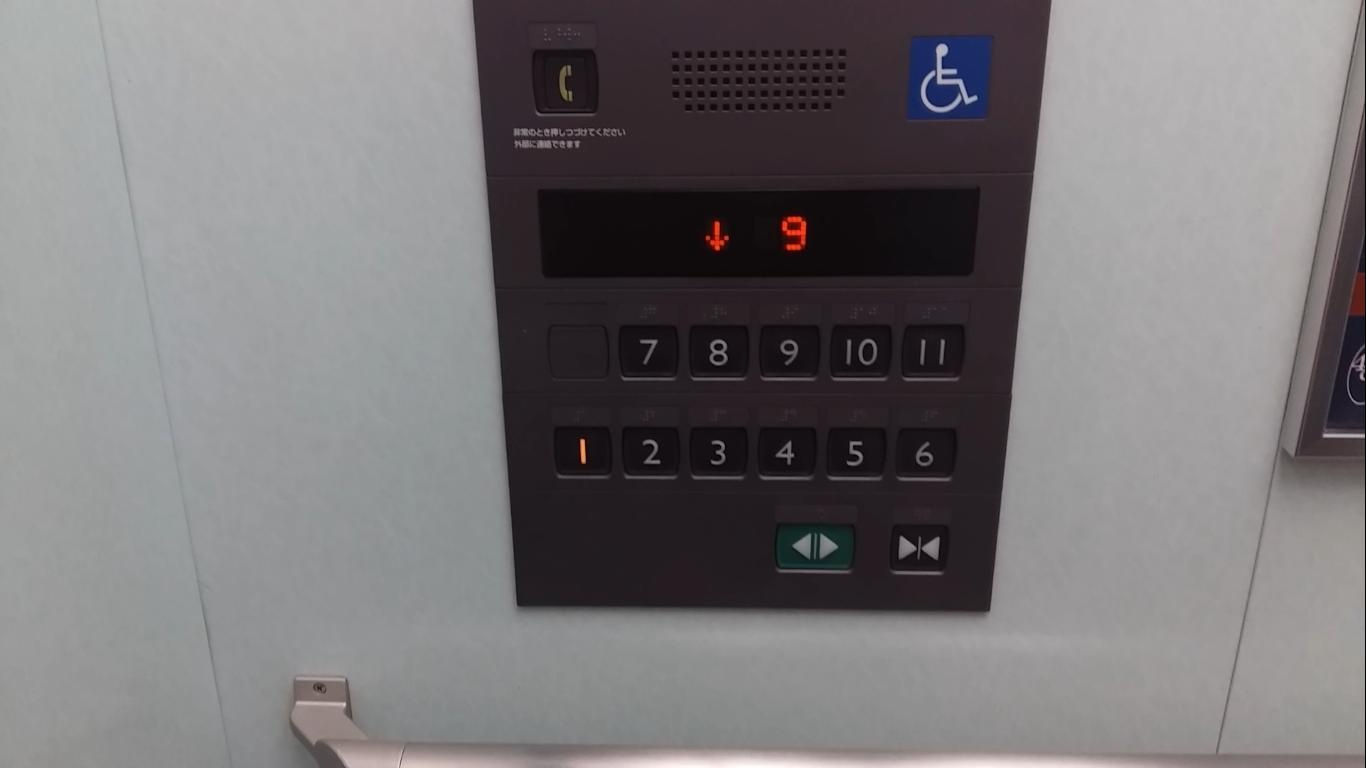1: (549, 423, 616, 483)
10: (825, 321, 893, 383)
11: (897, 321, 966, 383)
2: (617, 423, 684, 483)
3: (686, 423, 749, 483)
4: (750, 423, 819, 483)
5: (822, 423, 890, 483)
6: (892, 424, 958, 482)
7: (615, 321, 681, 383)
8: (686, 321, 749, 383)
9: (753, 321, 821, 383)
CH: (902, 34, 993, 123)
call: (529, 47, 604, 114)
close: (887, 520, 954, 576)
empty: (543, 321, 612, 383)
led: (538, 187, 982, 278)
open: (772, 520, 858, 574)
